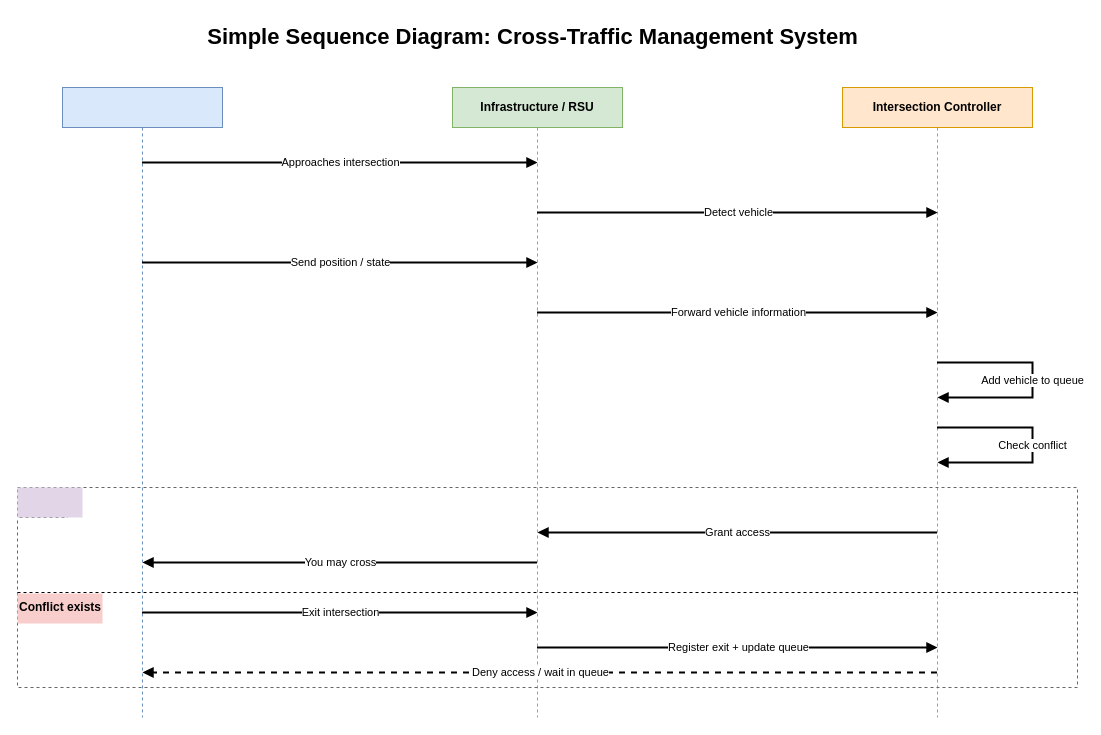
This 1101x735 diagram has some shape labels left out. Here are the shapes that lost their labels. From the top down, the box of each, then its label:
(62, 86, 222, 718): Autonomous Car
(17, 487, 82, 517): No conflict
